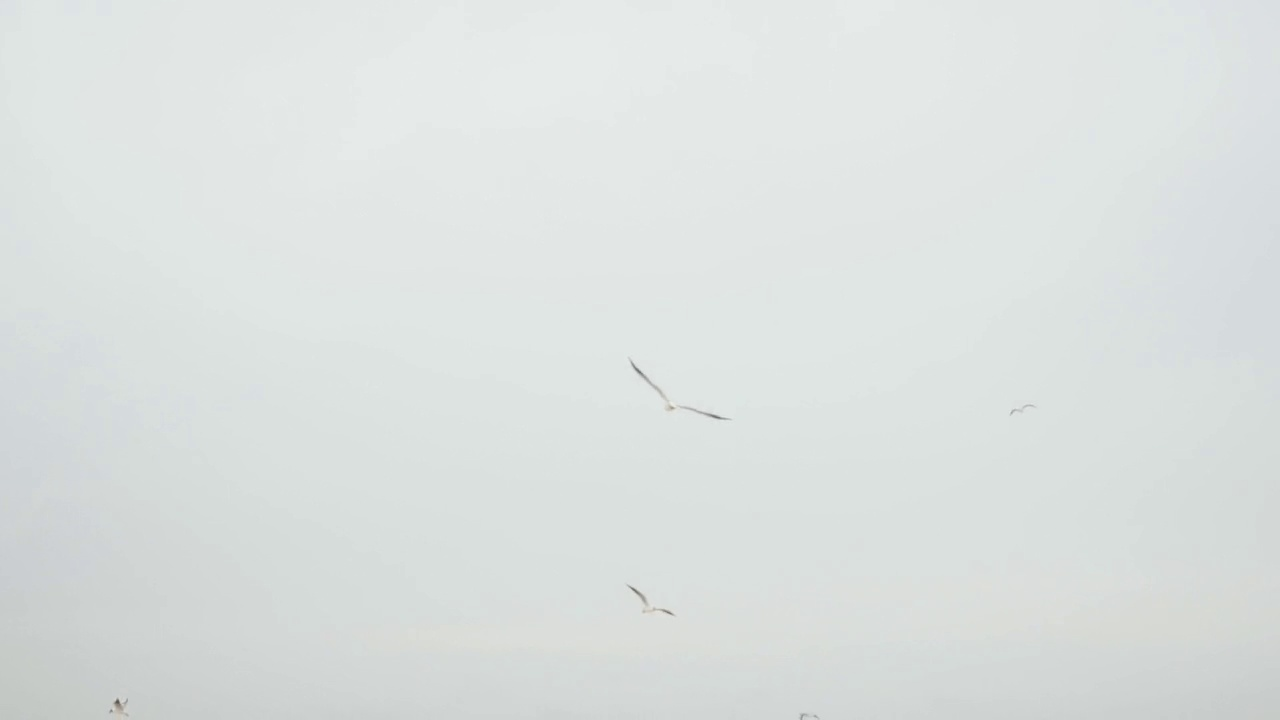bird: (628, 357, 728, 425), (627, 585, 674, 618), (110, 698, 130, 717)
